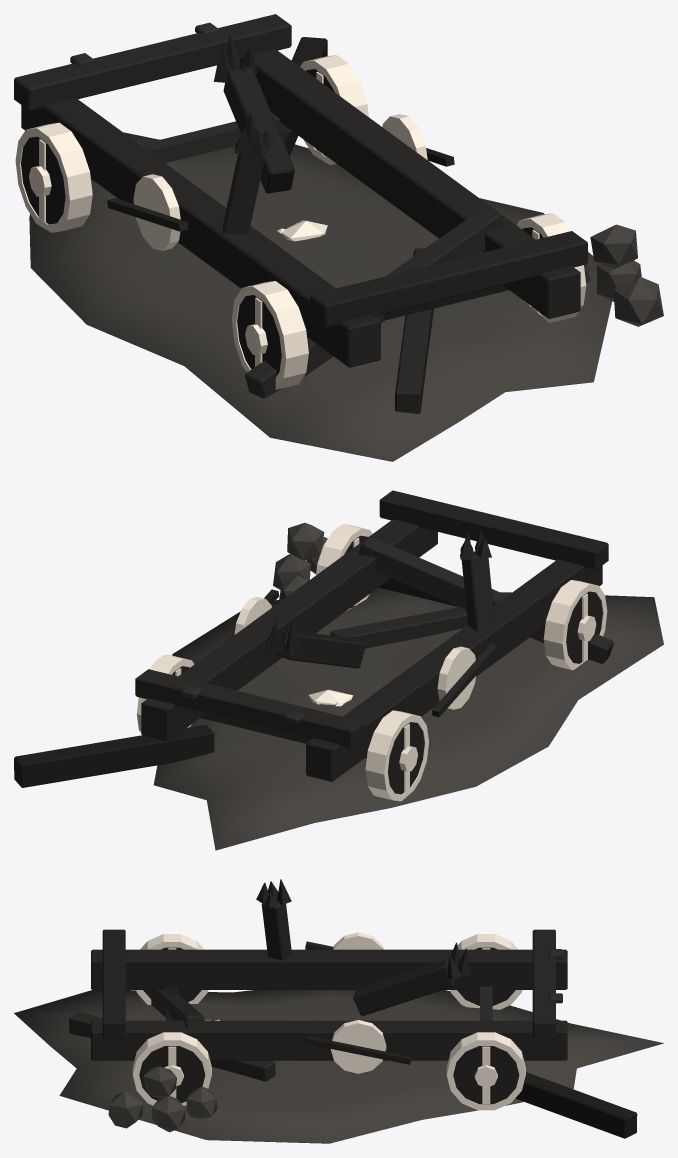
The model's file is SM_VKI_Prop_Siege_Catapult_Burnt.fbx.
3 views of the same model, one above another, from view 1: azimuth 30°, elevation 25°; view 2: azimuth 150°, elevation 25°; view 3: azimuth 270°, elevation 25° (orthographic). The views are drawn at different scales.
Parts seen in each view (by area): view 1: SM_VKI_Prop_Siege_Catapult_Burnt.001; view 2: SM_VKI_Prop_Siege_Catapult_Burnt.001; view 3: SM_VKI_Prop_Siege_Catapult_Burnt.001.
Boxes of the visible parts, left/top/right/bottom form: SM_VKI_Prop_Siege_Catapult_Burnt.001: left=14, top=14, right=663, bottom=461; SM_VKI_Prop_Siege_Catapult_Burnt.001: left=14, top=490, right=663, bottom=850; SM_VKI_Prop_Siege_Catapult_Burnt.001: left=14, top=879, right=663, bottom=1143.
Size of the model in its own units: 3.29 by 1.42 by 5.59.
